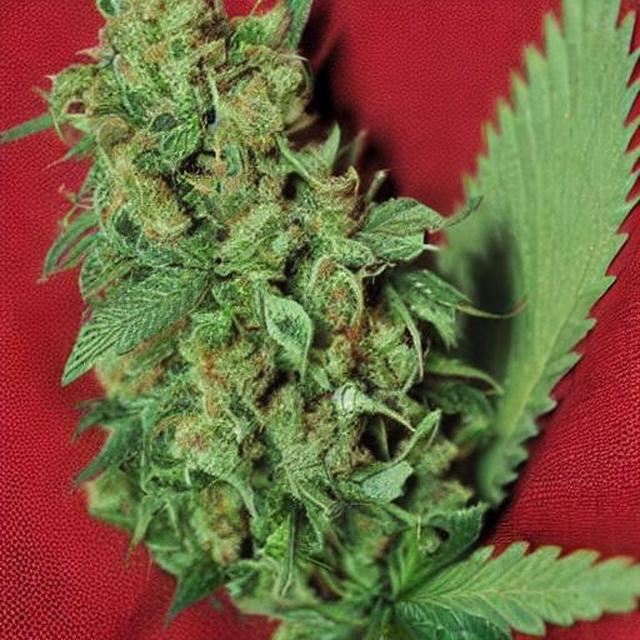Marijuana Plant: (25, 58, 639, 639)
